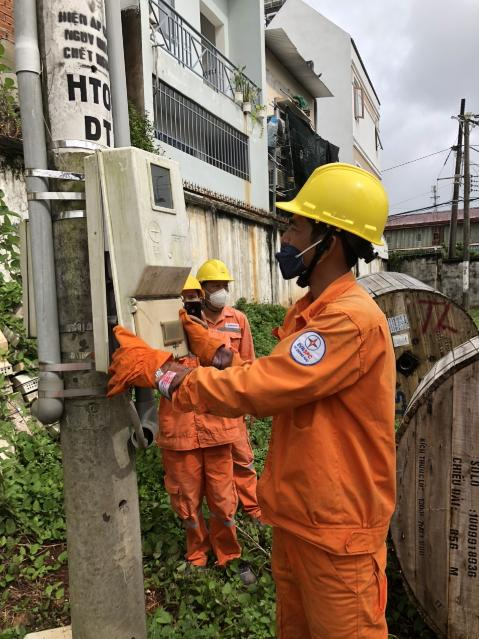gloves: (98, 309, 181, 395), (168, 313, 225, 371)
helmet: (264, 157, 402, 245), (193, 248, 235, 292), (167, 271, 198, 301)
